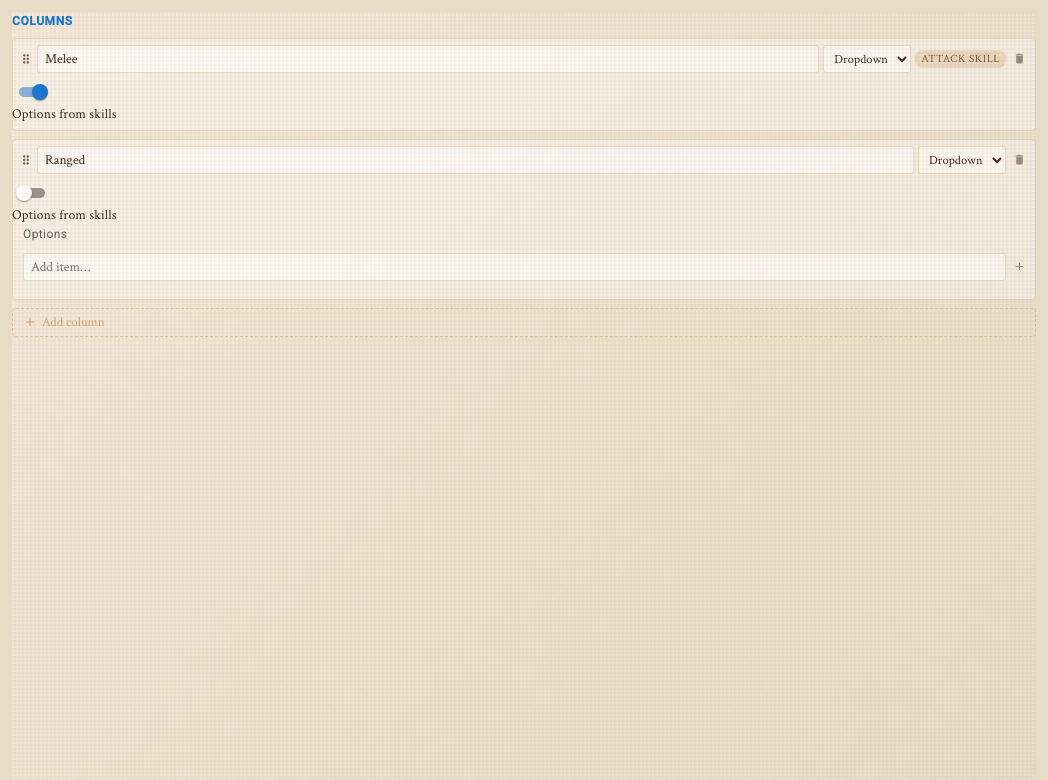
TableColumnsEditor — weapons › flagging column B clears A and names it in the hand-over notice
Click the 2nd switch labelled "Options from skills". click: [64, 204]
box: [12,185,117,224]
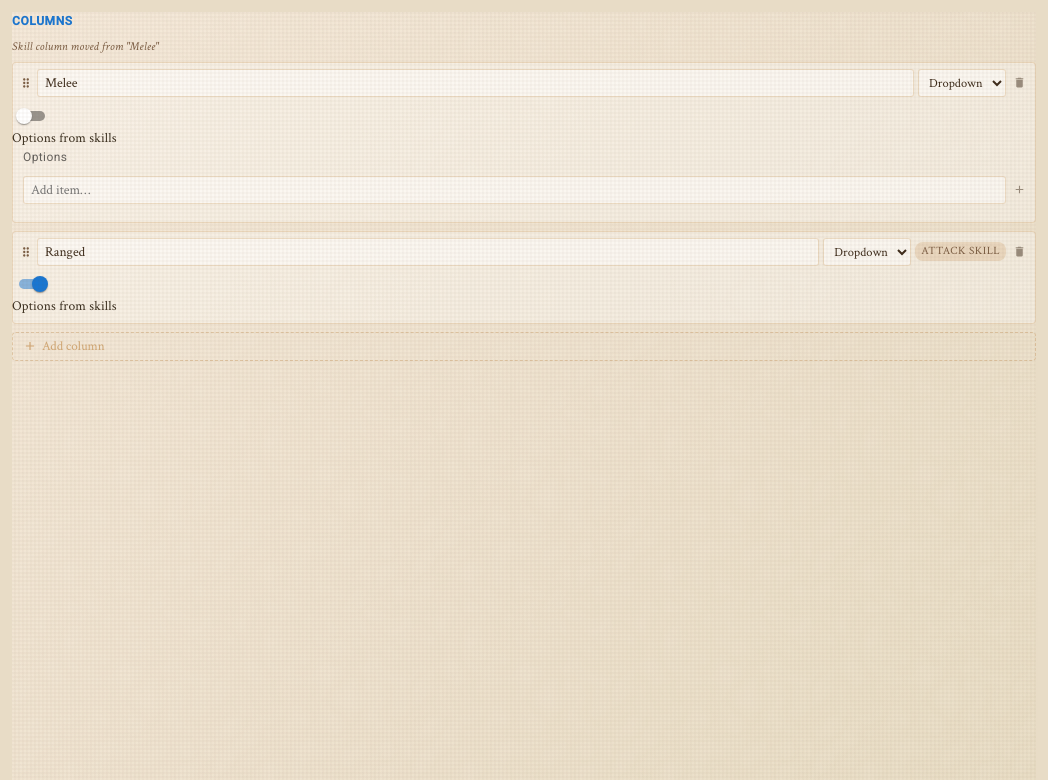
expect the text "attack skill" is shown once: met, box [915,242,1006,261]
expect the text "Skill column moved from \"Melee\"" is shown: met, box [12,39,159,54]
